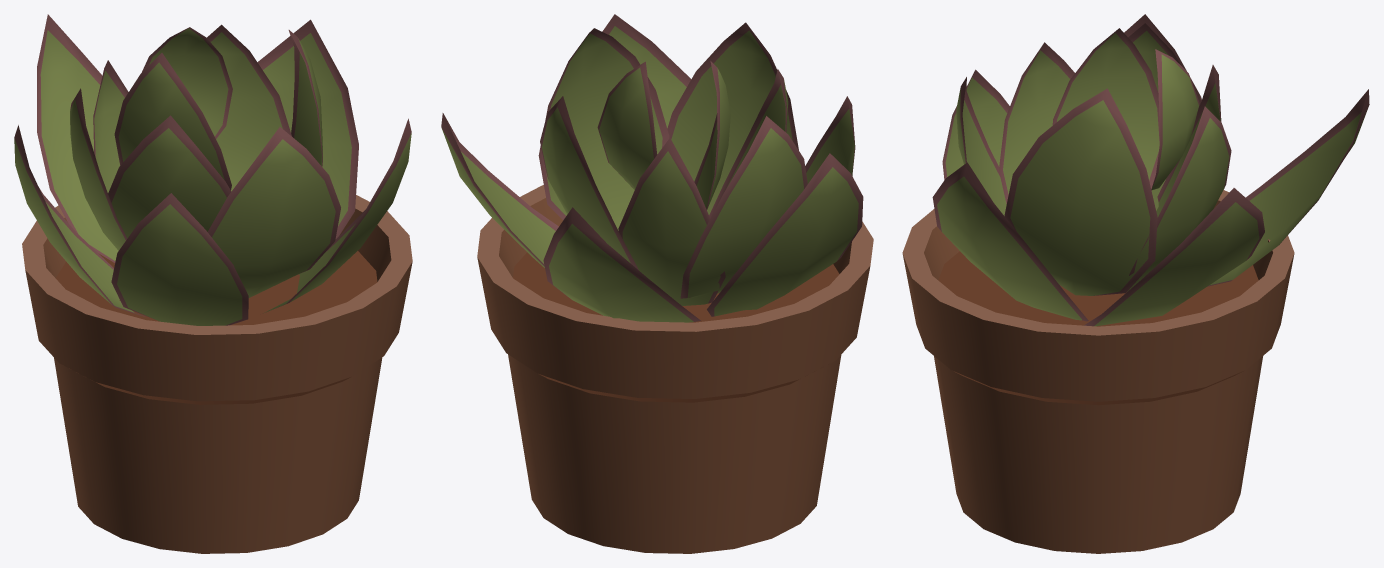
The model's file is Mesh_Room_Bonsai_01.fbx.
3 views of the same model, side by side, from view 1: azimuth 30°, elevation 25°; view 2: azimuth 150°, elevation 25°; view 3: azimuth 270°, elevation 25° (orthographic).
Visible parts, largest first — view 1: Mesh_Room_Bonsai_01; view 2: Mesh_Room_Bonsai_01; view 3: Mesh_Room_Bonsai_01.
Boxes of the visible parts, box(x1,y1,x2,y2) form: Mesh_Room_Bonsai_01: box(14, 14, 412, 553); Mesh_Room_Bonsai_01: box(441, 14, 873, 553); Mesh_Room_Bonsai_01: box(902, 14, 1369, 553).
Size of the model in its own units: 20.36 by 24.68 by 23.46.
Materials: 1 (1 with a texture image).
